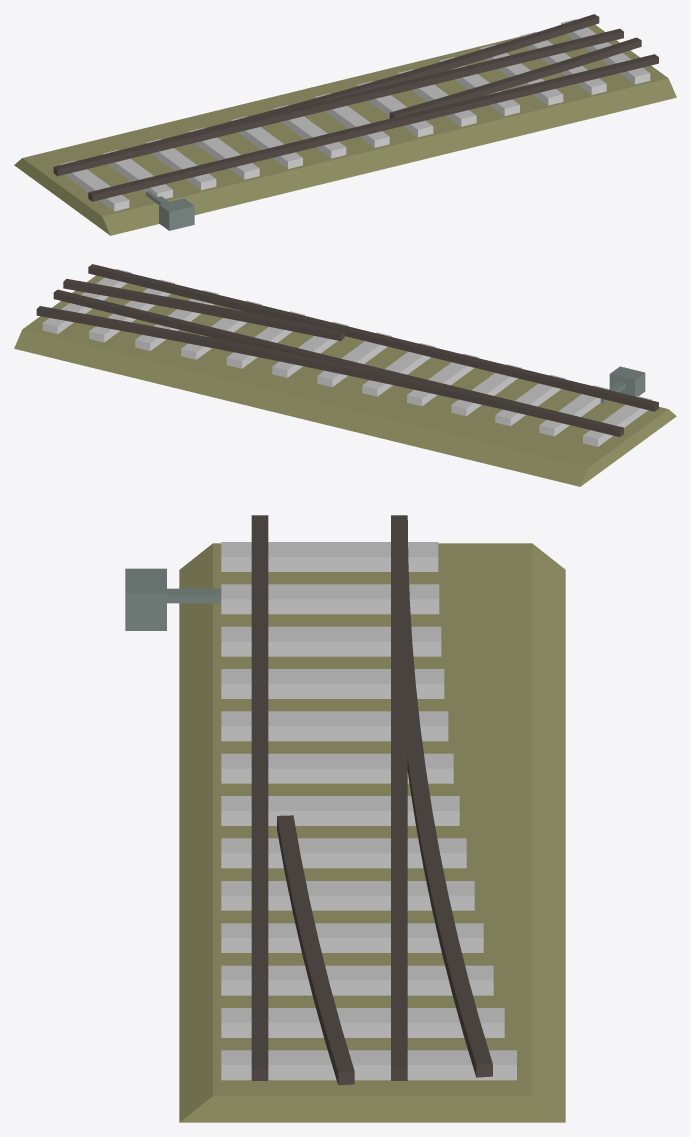
The model's file is SM_Via_DesvioIzq_v0_Hormigon_LOD1.fbx.
The picture shows the model from 3 angles, top to bottom: view 1: azimuth 30°, elevation 25°; view 2: azimuth 150°, elevation 25°; view 3: azimuth 270°, elevation 25°; orthographic projection. The views are drawn at different scales.
Visible parts, largest first — view 1: SM_via_trazado_v25_LOD1; view 2: SM_via_trazado_v25_LOD1; view 3: SM_via_trazado_v25_LOD1.
Boxes of the visible parts, x1,y1,x2,y2 form: SM_via_trazado_v25_LOD1: (14,14,676,235); SM_via_trazado_v25_LOD1: (14,264,676,486); SM_via_trazado_v25_LOD1: (125,515,565,1122).
Size of the model in its own units: 15.79 by 0.721 by 5.28.
